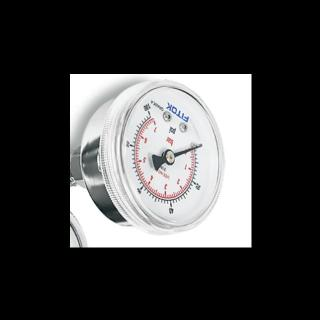gauge: (107, 74, 225, 242), (140, 103, 158, 121), (190, 136, 206, 154), (164, 148, 176, 164), (196, 142, 204, 150)
